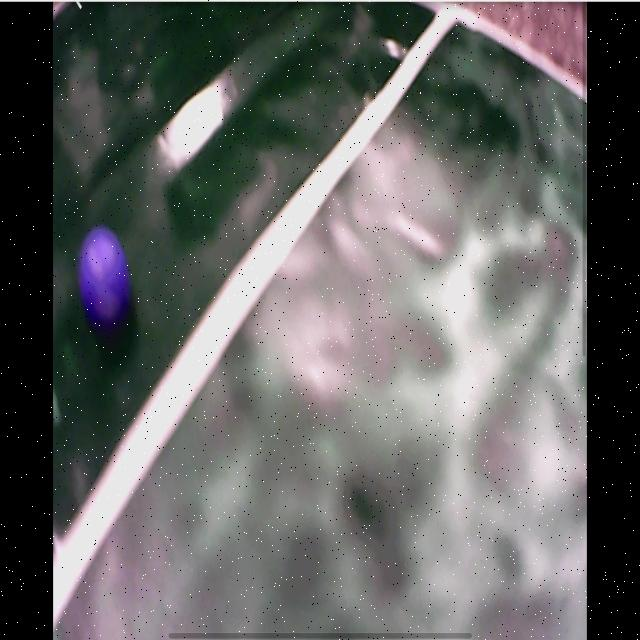ball: (79, 233, 128, 315)
